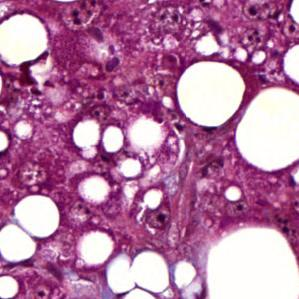steatosis: (175, 63, 246, 124), (11, 193, 64, 239)
